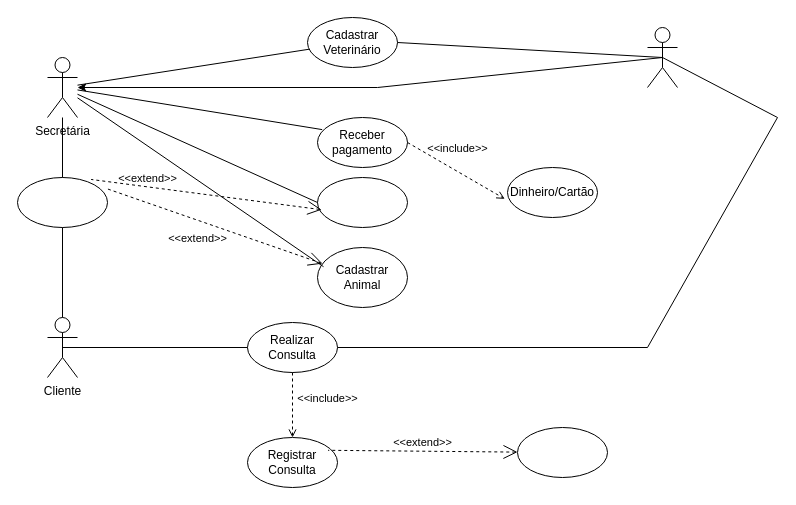
This 796x505 diagram has some shape labels left out. The centre of each missing label's shape, as x and y in pixels:
"Cadastrar Cliente" goes at [362,202].
"Marcar Consulta" goes at [62,202].
"Necessário Exames" goes at [562,452].
"Veterinário" goes at [662,57].
